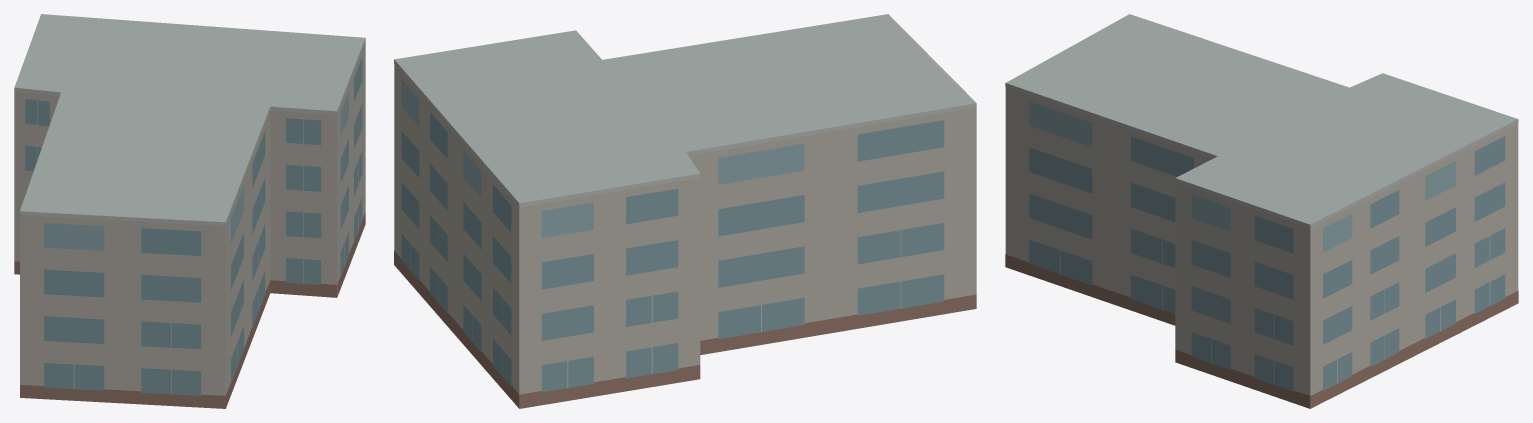
File: survey-upis-32700553.glb
The picture shows the model from 3 angles, left to right: view 1: azimuth 30°, elevation 25°; view 2: azimuth 150°, elevation 25°; view 3: azimuth 270°, elevation 25°; orthographic projection. The views are drawn at different scales.
Parts seen in each view (by area): view 1: survey-upis-32700553.tmp; view 2: survey-upis-32700553.tmp; view 3: survey-upis-32700553.tmp.
Boxes of the visible parts, left/top/right/bottom form: survey-upis-32700553.tmp: left=14, top=14, right=365, bottom=408; survey-upis-32700553.tmp: left=394, top=14, right=976, bottom=408; survey-upis-32700553.tmp: left=1005, top=14, right=1518, bottom=408.
Size of the model in its own units: 29.93 by 12.2 by 30.79.
